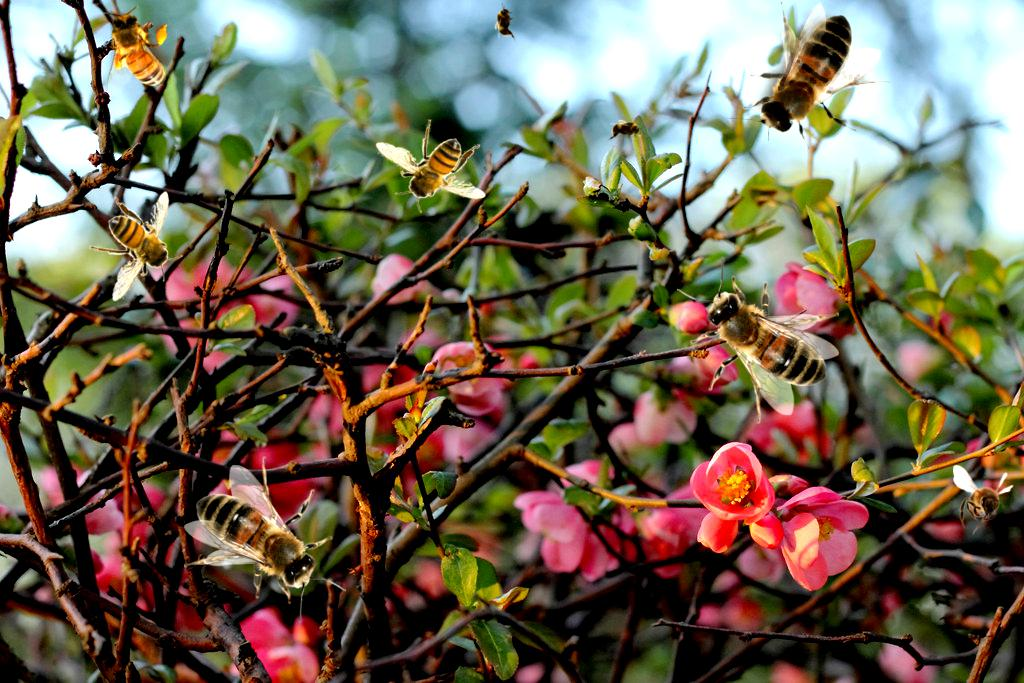Bee: (184, 456, 346, 623), (677, 257, 839, 424), (724, 2, 891, 164), (89, 191, 183, 302), (375, 119, 486, 213), (103, 6, 171, 99), (953, 465, 1014, 535), (494, 2, 516, 42), (606, 119, 646, 141)
